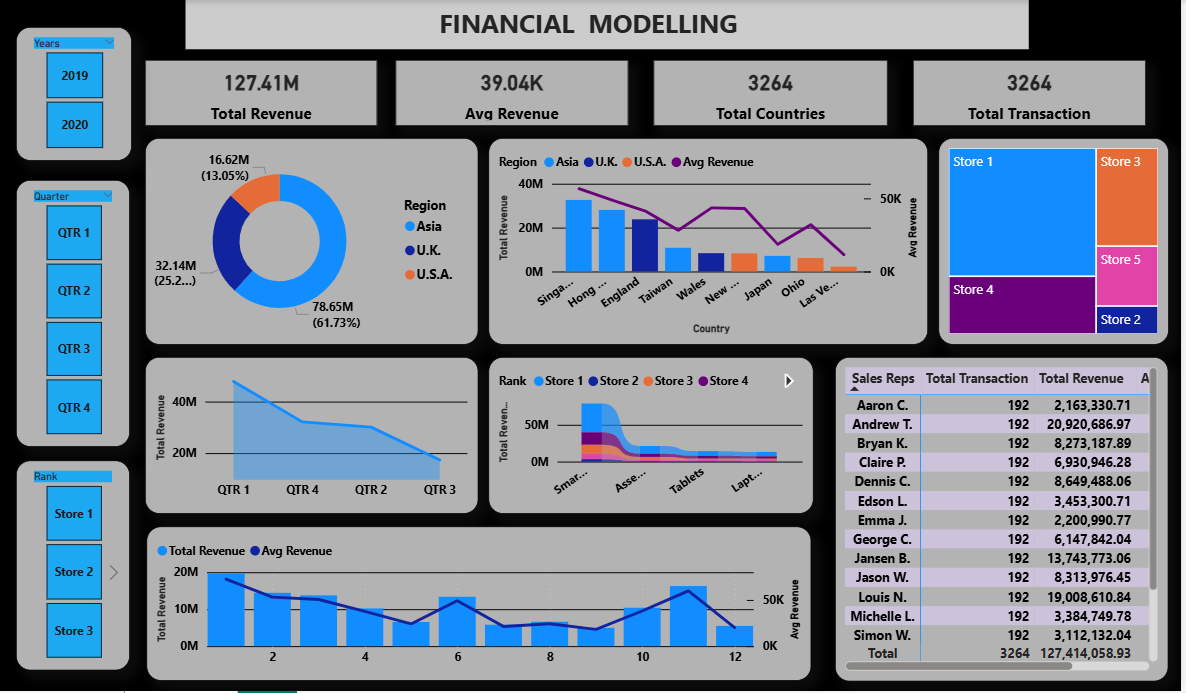

The page's visual inventory and layout, read from the dashboard file:
{"tool":"powerbi","page":{"name":"Page 1","canvas":[1280,720],"ordinal":0},"visuals":[{"type":"card","fields":{"Values":["Measures (2).Total Revenue"]},"box":[200.1,62.5,242.3,68.8],"z":2000},{"type":"card","fields":{"Values":["Measures (2).Avg Revenue"]},"box":[460.9,62.7,242.5,68.8],"z":3000},{"type":"card","fields":{"Values":["Measures (2).Total Countries"]},"box":[729.9,62.7,243.7,68.8],"z":4000},{"type":"card","fields":{"Values":["Measures (2).Total Transaction"]},"box":[1000.1,62.7,242.5,68.8],"z":5000},{"type":"donutChart","fields":{"Y":["Measures (2).Total Revenue"],"Category":["Sheet1.Region"]},"box":[200.3,144.1,347.2,215.4],"z":6000},{"type":"lineStackedColumnComboChart","fields":{"Category":["Sheet1.Country"],"Y":["Measures (2).Total Revenue"],"Y2":["Measures (2).Avg Revenue"],"Series":["Sheet1.Region"]},"box":[558.5,144.1,458.3,215.4],"z":7000},{"type":"treemap","title":"Total Revenue by Store","fields":{"Values":["Measures (2).Total Revenue"],"Group":["Sheet1.Rank"]},"box":[1026.4,144.1,240.1,215.4],"z":8000},{"type":"areaChart","fields":{"Y":["Measures (2).Total Revenue"],"Category":["Sheet1.Quarter"]},"box":[200.3,371.9,347.2,163.3],"z":9000},{"type":"ribbonChart","fields":{"Category":["Sheet1.Products"],"Y":["Measures (2).Total Revenue"],"Series":["Sheet1.Rank"]},"box":[558.5,371.9,338.9,163.3],"z":10000},{"type":"pivotTable","fields":{"Rows":["Sheet1.Sales Reps"],"Values":["Measures (2).Total Transaction","Measures (2).Total Revenue","Measures (2).Avg Revenue"]},"box":[919.3,371.6,347.5,337.8],"z":11000},{"type":"lineStackedColumnComboChart","fields":{"Category":["Sheet1.Month"],"Y":["Measures (2).Total Revenue"],"Y2":["Measures (2).Avg Revenue"]},"box":[201.6,548.6,692.4,161],"z":12000},{"type":"slicer","fields":{"Values":["Sheet1.Years"]},"box":[65.6,28.1,120.4,139.1],"z":13000},{"type":"slicer","fields":{"Values":["Sheet1.Quarter"]},"box":[65.6,187.6,118.8,278.2],"z":14000},{"type":"slicer","fields":{"Values":["Sheet1.Rank"]},"box":[65.6,479.8,118.8,218.8],"z":15000},{"type":"textbox","box":[242.3,0,878.4,51.6],"z":15001}]}

Visuals, with their boxes in screenshot pixels (x1, y1, x2, y2):
card - Measures (2).Total Revenue: <region>143, 59, 373, 124</region>
card - Measures (2).Avg Revenue: <region>390, 59, 620, 125</region>
card - Measures (2).Total Countries: <region>645, 59, 876, 125</region>
card - Measures (2).Total Transaction: <region>901, 59, 1131, 125</region>
donutChart - Measures (2).Total Revenue x Sheet1.Region: <region>143, 137, 472, 341</region>
lineStackedColumnComboChart - Sheet1.Country x Measures (2).Total Revenue: <region>483, 137, 917, 341</region>
"Total Revenue by Store" treemap: <region>926, 137, 1153, 341</region>
areaChart - Measures (2).Total Revenue x Sheet1.Quarter: <region>143, 352, 472, 507</region>
ribbonChart - Sheet1.Products x Measures (2).Total Revenue: <region>483, 352, 804, 507</region>
pivotTable - Sheet1.Sales Reps x Measures (2).Total Transaction: <region>825, 352, 1154, 672</region>
lineStackedColumnComboChart - Sheet1.Month x Measures (2).Total Revenue: <region>145, 520, 801, 672</region>
slicer - Sheet1.Years: <region>16, 27, 130, 158</region>
slicer - Sheet1.Quarter: <region>16, 178, 128, 441</region>
slicer - Sheet1.Rank: <region>16, 455, 128, 662</region>
textbox: <region>183, 0, 1015, 49</region>
